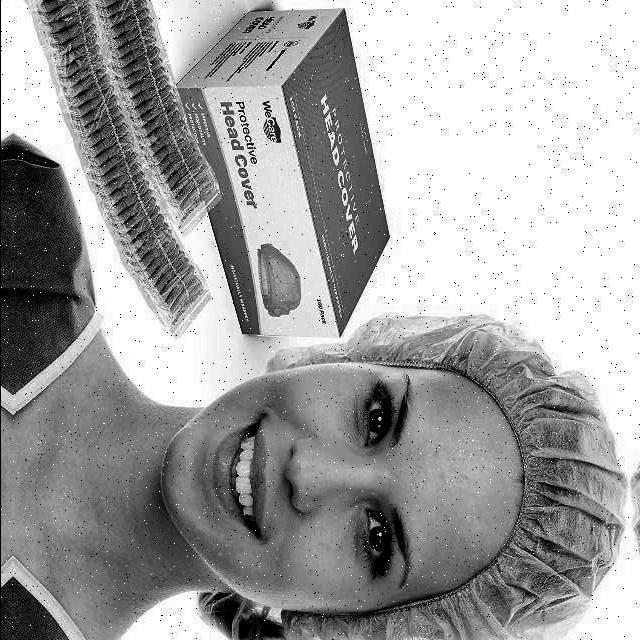gloves: (433, 309, 618, 640)
no_hairnet: (189, 402, 330, 552)
